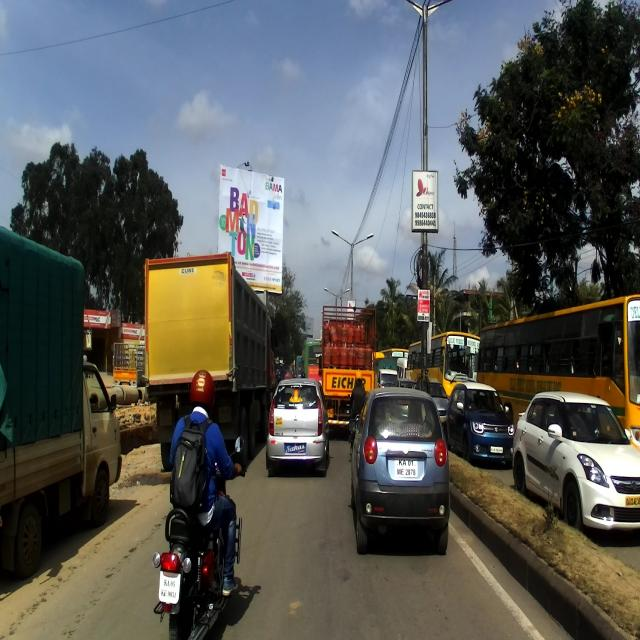Car_Chevrolet: (348, 384, 451, 554)
Car_Maruti-Suzuki: (512, 389, 639, 540), (444, 381, 515, 468)
Car_TATA: (265, 377, 330, 476)
bus: (475, 294, 639, 451)
motorcycle_RoyalEnfield: (151, 434, 244, 636)
truck: (0, 226, 122, 583), (143, 254, 277, 466), (316, 303, 387, 434)
